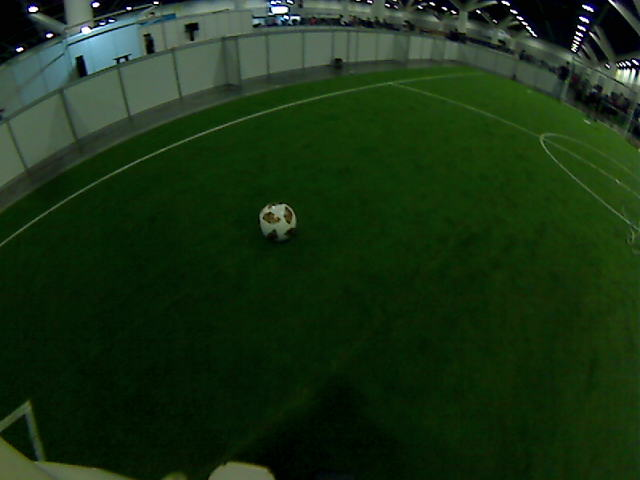ball: (256, 199, 296, 239)
goalpost: (619, 91, 631, 134), (560, 69, 570, 102)
